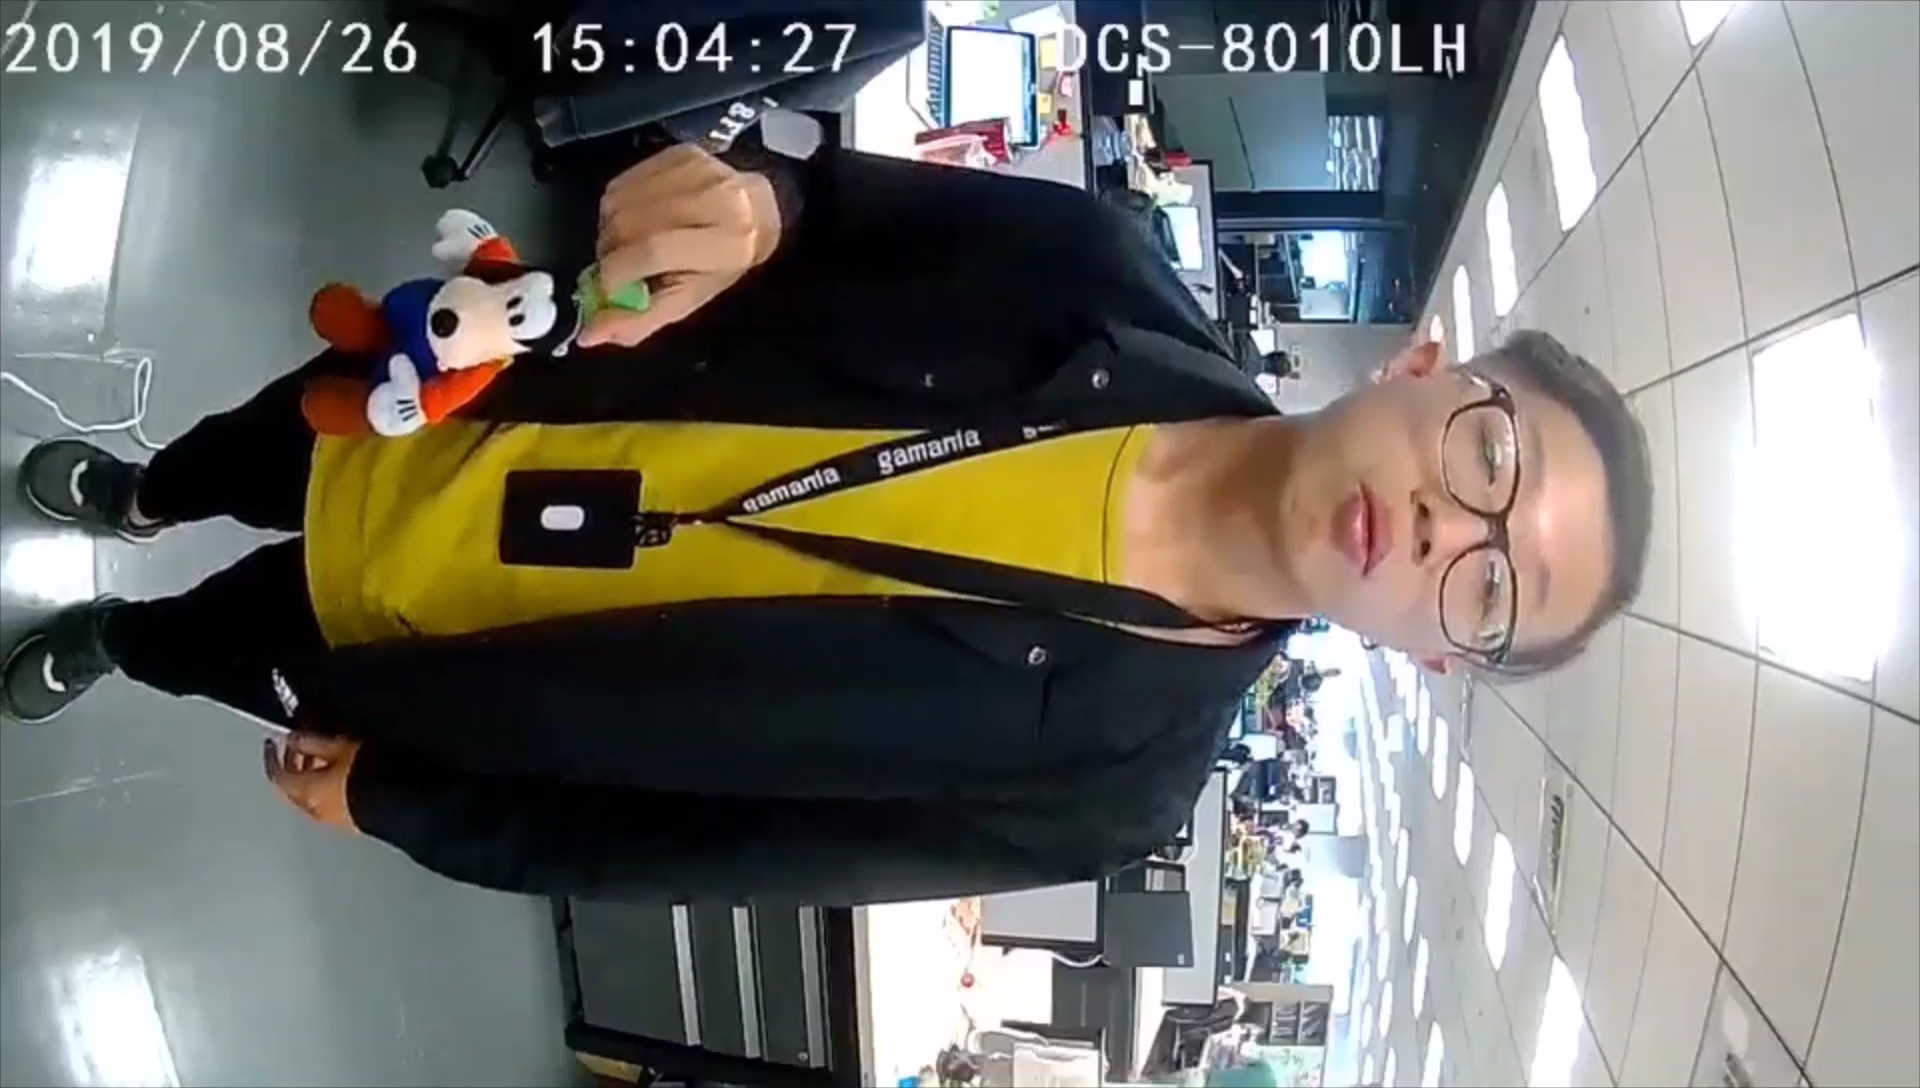goofy: (305, 206, 659, 450)
